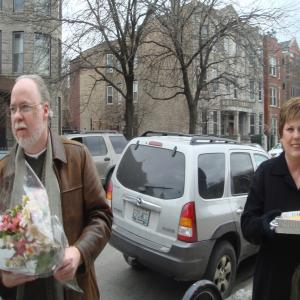Vehicle-registration-plate: (135, 205, 152, 227)
